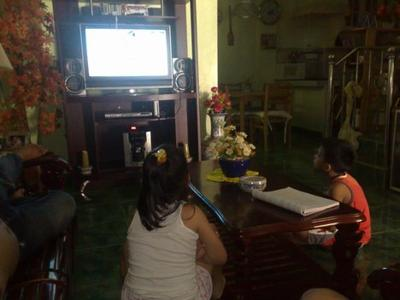person: (121, 143, 229, 300)
